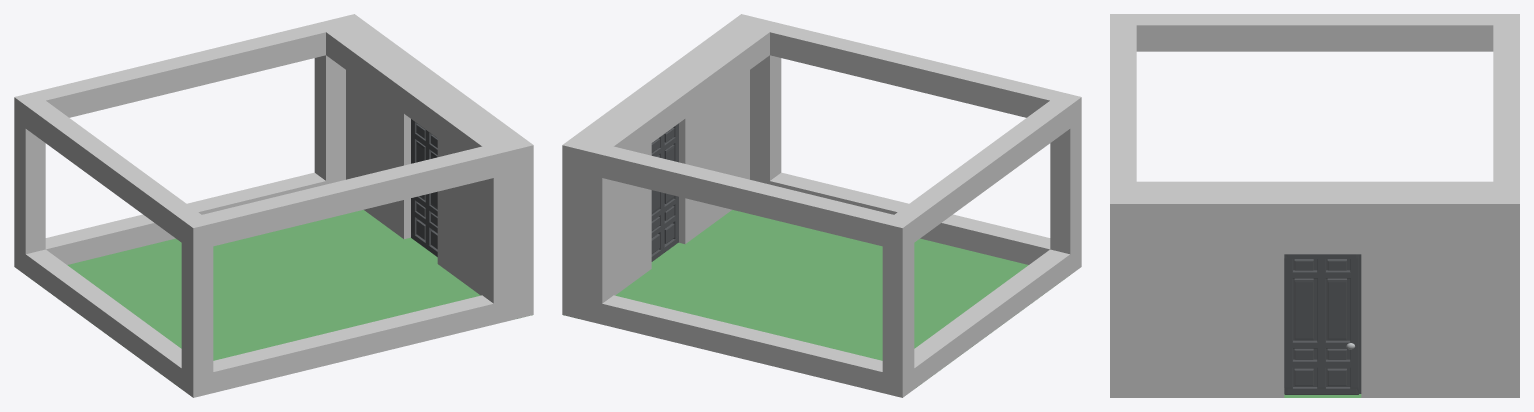
The model's file is small_house.glb.
3 views of the same model, side by side, from view 1: azimuth 30°, elevation 25°; view 2: azimuth 150°, elevation 25°; view 3: azimuth 270°, elevation 25° (orthographic). The views are drawn at different scales.
Parts seen in each view (by area): view 1: Mesh_Mesh_head_geo.001_lambert2SG.001; view 2: Mesh_Mesh_head_geo.001_lambert2SG.001; view 3: Mesh_Mesh_head_geo.001_lambert2SG.001.
Boxes of the visible parts, <box> form: Mesh_Mesh_head_geo.001_lambert2SG.001: <box>14,14,533,397</box>; Mesh_Mesh_head_geo.001_lambert2SG.001: <box>562,14,1081,397</box>; Mesh_Mesh_head_geo.001_lambert2SG.001: <box>1110,14,1519,397</box>.
Bounding box in the file's own units: 0.34 × 0.162 × 0.31.
